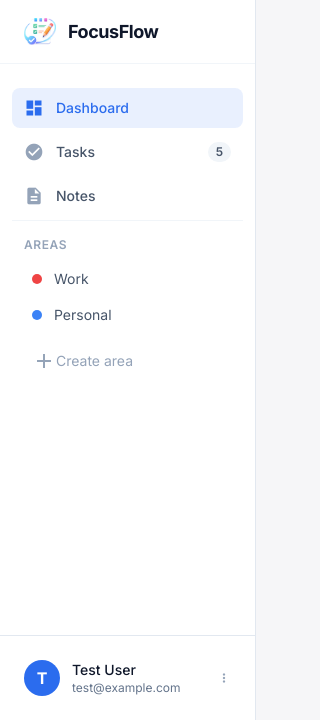
Sidebar Component › hides create area input on escape
This screenshot has width=320, height=720.
Click the button "Create area" at (128, 361), box x1=24 y1=341 x2=231 y2=381
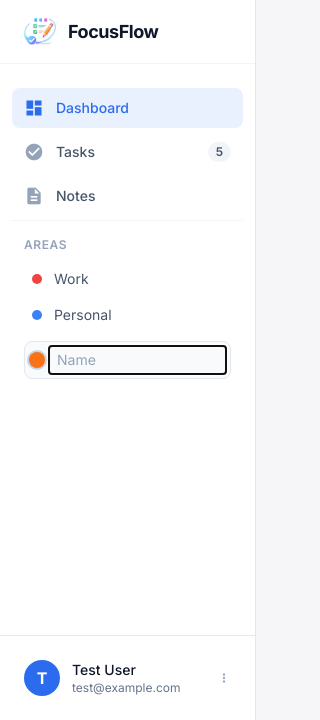
Result: the field with placeholder "Name" is shown
Press Escape in the field with placeholder "Name", box x1=49 y1=346 x2=226 y2=374
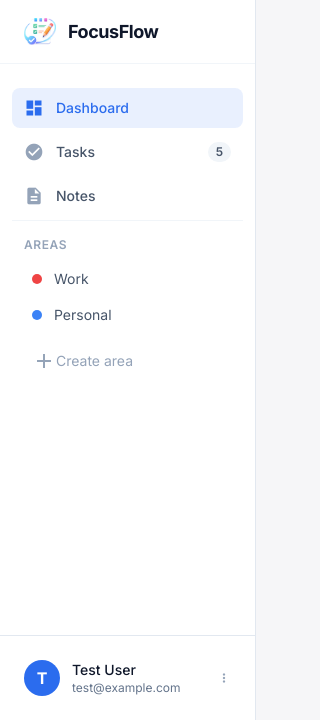
Result: the field with placeholder "Name" is gone
